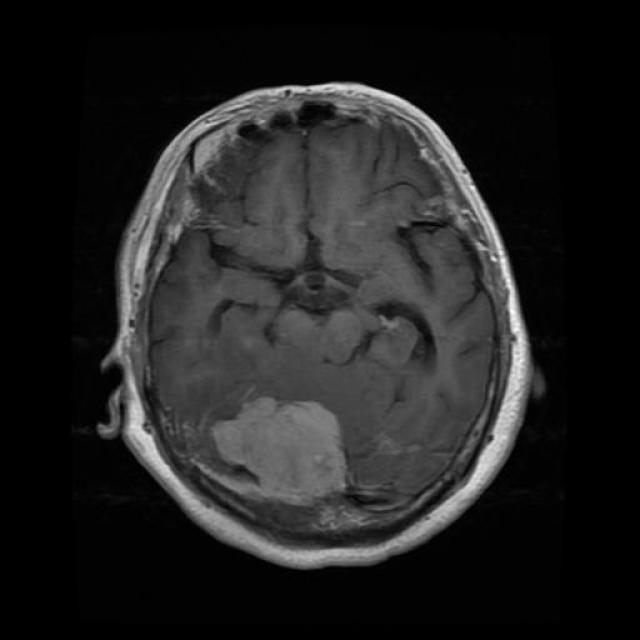Meningioma: (195, 397, 346, 506)
